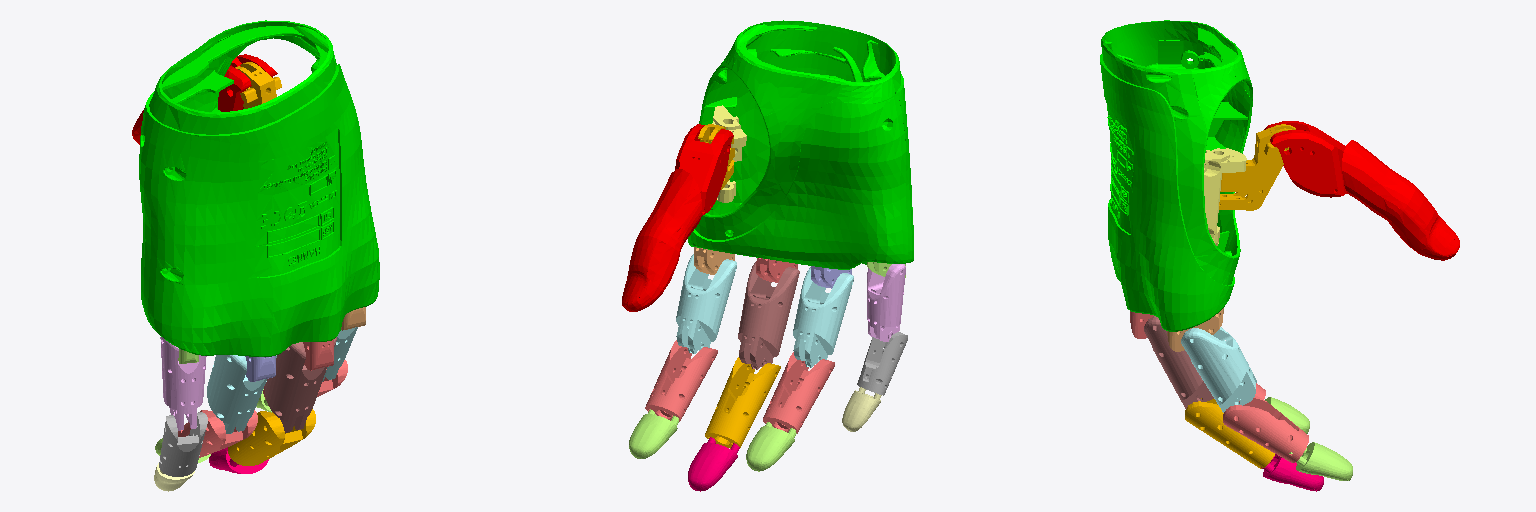
--- Facts derived from the render (not from the file) ---
The picture shows the robot from 3 angles, left to right: view 1: azimuth 30°, elevation 25°; view 2: azimuth 150°, elevation 25°; view 3: azimuth 270°, elevation 25°; orthographic projection.
Robot: COVER — 25 links, 24 joints (9 revolute, 15 fixed); root link footprint; default pose: joints at zero except 3 at the middle of their limits (index_mount_proximal_joint = 0.4228, middle_mount_proximal_joint = 0.3728, ring_mount_proximal_joint = 0.4228).
Links seen in each view (by area): view 1: 1_A, middle_proximal_link, ring_proximal_link, lil_proximal_link, middle_medial_link, lil_medial_link, CUTOUT, ring_medial_link, PAF1002500, middle_mount_2_link, index_proximal_link, middle_distal_link (+1 smaller); view 2: 1_A, CUTOUT, middle_proximal_link, index_proximal_link, ring_proximal_link, middle_medial_link, index_medial_link, ring_medial_link, lil_proximal_link, lil_medial_link, middle_distal_link, ring_distal_link (+7 smaller); view 3: 1_A, CUTOUT, index_proximal_link, index_medial_link, PAF1002500, middle_proximal_link, middle_medial_link, PAF1002300, index_distal_link, middle_distal_link, index_mount_2_link, ring_distal_link.
Link boxes in pixels (bbox=[...]): 1_A: bbox=[139, 20, 379, 356]; middle_proximal_link: bbox=[265, 337, 336, 432]; ring_proximal_link: bbox=[207, 355, 276, 433]; lil_proximal_link: bbox=[160, 337, 206, 430]; middle_medial_link: bbox=[228, 409, 315, 465]; lil_medial_link: bbox=[159, 412, 207, 476]; CUTOUT: bbox=[132, 54, 277, 144]; ring_medial_link: bbox=[178, 410, 257, 457]; PAF1002500: bbox=[235, 62, 281, 108]; middle_mount_2_link: bbox=[303, 339, 333, 370]; index_proximal_link: bbox=[322, 327, 357, 381]; middle_distal_link: bbox=[209, 447, 268, 473]; 1_A: bbox=[688, 20, 913, 269]; CUTOUT: bbox=[622, 124, 733, 311]; middle_proximal_link: bbox=[738, 262, 799, 369]; index_proximal_link: bbox=[676, 254, 736, 353]; ring_proximal_link: bbox=[793, 267, 853, 367]; middle_medial_link: bbox=[705, 357, 780, 448]; index_medial_link: bbox=[645, 340, 717, 421]; ring_medial_link: bbox=[763, 352, 834, 433]; lil_proximal_link: bbox=[867, 264, 905, 341]; lil_medial_link: bbox=[857, 332, 907, 395]; middle_distal_link: bbox=[688, 437, 739, 491]; ring_distal_link: bbox=[746, 422, 796, 471]; 1_A: bbox=[1100, 20, 1252, 331]; CUTOUT: bbox=[1264, 121, 1459, 260]; index_proximal_link: bbox=[1181, 327, 1256, 412]; index_medial_link: bbox=[1223, 395, 1308, 462]; PAF1002500: bbox=[1219, 124, 1295, 210]; middle_proximal_link: bbox=[1144, 316, 1213, 408]; middle_medial_link: bbox=[1185, 398, 1274, 468]; PAF1002300: bbox=[1204, 148, 1246, 245]; index_distal_link: bbox=[1289, 442, 1352, 480]; middle_distal_link: bbox=[1261, 454, 1323, 491]; index_mount_2_link: bbox=[1167, 308, 1223, 351]; ring_distal_link: bbox=[1265, 397, 1309, 433].
Size in the robot's own frame: 85.76 by 127 by 166 metres.
Meshes: 21 distinct files referenced, 24 mesh visuals loaded (21 binary STL).

robot.urdf — COVER:
<robot name="COVER">

  <link name="footprint" />

  <joint name="base_joint" type="fixed">
    <parent link="footprint"/>
    <child link="1_A"/>
  </joint>

  <link name="1_A">
    <inertial>
      <origin xyz="-0.00851236 -0.000890128 0.00760393" rpy="0 0 0"/>
      <mass value="33073300.0"/>
      <inertia ixx="27909.2" ixy="-734.642" ixz="2667.27" iyy="41786.8" iyz="-818.311" izz="27561.8"/>
    </inertial>
    <visual>
      <origin xyz="0 0 0" rpy="0 0 0"/>
      <geometry>
        <mesh filename="package://advr_mob_plt_description/urdf/meshes/1_a_asm-binary.stl"/>
      </geometry>
      <material name="green">
        <color rgba="0 1 0 1"/>
      </material>
    </visual>
    <collision>
      <origin xyz="0 0 0" rpy="0 0 0"/>
      <geometry>
        <mesh filename="package://advr_mob_plt_description/urdf/meshes/1_a_asm-binary.stl"/>
      </geometry>
    </collision>
  </link>

<!--INDEX Finger-->
  <joint name="palm_index_mount_joint" type="fixed">
    <origin xyz="29 10 -28" rpy="1.57 1.57 -0.001"/>
    <parent link="1_A"/>
    <child link="index_mount_1_link"/>
    <dynamics damping="0.1"/>
  </joint>

  <link name="index_mount_1_link">
    <inertial>
      <origin xyz="-0.0013145 8.67863770326e-06 0.00149996711302" rpy="0 0 0"/>
      <mass value="0.0532202"/>
      <inertia ixx="5.01885e-07" ixy="-2.49665e-09" ixz="0.0" iyy="6.217e-07" iyz="-5.68401e-11" izz="1.04769e-06"/>
    </inertial>
    <visual>
      <origin xyz="0 0 0" rpy="0 0 0"/>
      <geometry>
        <mesh filename="package://advr_mob_plt_description/urdf/meshes/paf1003400_prt-binary.stl"/>
      </geometry>
      <material name="PAF1003400_color">
        <color rgba="0.25 0.5 0.0 1.0"/>
      </material>
    </visual>
    <collision>
      <origin xyz="0 0 0" rpy="0 0 0"/>
      <geometry>
        <mesh filename="package://advr_mob_plt_description/urdf/meshes/paf1003400_prt-binary.stl"/>
      </geometry>
    </collision>
  </link>

  <joint name="index_mount_joint" type="fixed">
    <origin xyz="0 0 -9" rpy="1.58824971908 0 0"/>
    <axis xyz="0.0 -1.00000044025 -1.13856436057e-07"/>
    <parent link="index_mount_1_link"/>
    <child link="index_mount_2_link"/>
    <dynamics damping="0.1"/>
  </joint>

  <link name="index_mount_2_link">
    <inertial>
      <origin xyz="0.0038461 0.00438742504662 1.07098420216e-05" rpy="0 0 0"/>
      <mass value="0.103446"/>
      <inertia ixx="3.58836e-06" ixy="-5.21846e-07" ixz="4.01023e-09" iyy="2.78015e-06" iyz="2.538e-09" izz="4.97765e-06"/>
    </inertial>
    <visual>
      <origin xyz="-0.0035 -0.00698064435777 0" rpy="0 0 0"/>
      <geometry>
        <mesh filename="package://advr_mob_plt_description/urdf/meshes/paf1003801_prt-binary.stl"/>
      </geometry>
      <material name="PAF1003801_color">
        <color rgba="1.0 0.75 0.5 1.0"/>
      </material>
    </visual>
    <collision>
      <origin xyz="-0.0035 -0.00698064435777 0" rpy="0 0 0"/>
      <geometry>
        <mesh filename="package://advr_mob_plt_description/urdf/meshes/paf1003801_prt-binary.stl"/>
      </geometry>
    </collision>
  </link>

  <joint name="index_mount_proximal_joint" type="revolute">
    <origin xyz="10.5 10.5 0" rpy="1.61820653951 1.57079602112 1.56584662577"/>
    <axis xyz="1.00000044025 -1.91634382918e-07 8.52805280907e-09"/>
    <parent link="index_mount_2_link"/>
    <child link="index_proximal_link"/>
    <limit effort="300" lower="0.14" upper="0.705631162427" velocity="1"/>
    <dynamics damping="0.1"/>
  </joint>

  <link name="index_proximal_link">
    <inertial>
      <origin xyz="0 -0.00245137136553 0.015615295202" rpy="0 0 0"/>
      <mass value="0.0118295"/>
      <inertia ixx="9.70967e-07" ixy="0.0" ixz="0.0" iyy="1.04991e-06" iyz="2.74792e-08" izz="4.78951e-07"/>
    </inertial>
    <visual>
      <origin xyz="0 -2.5 -2.5" rpy="0 0 0"/>
      <geometry>
        <mesh filename="package://advr_mob_plt_description/urdf/meshes/paf1004201_prt-binary.stl"/>
      </geometry>
      <material name="PAF1004201_color">
        <color rgba="0.75 1.0 1.0 1.0"/>
      </material>
    </visual>
    <collision>
      <origin xyz="0 0 0" rpy="0 0 0"/>
      <geometry>
        <mesh filename="package://advr_mob_plt_description/urdf/meshes/paf1004201_prt-binary.stl"/>
      </geometry>
    </collision>
  </link>

  <joint name="index_proximal_medial_joint" type="revolute">
    <origin xyz="0 1 33.5" rpy="-2.68780710036 2.39771271023e-07 0"/>
    <axis xyz="-1.00000044025 -6.51257134887e-08 3.08022348461e-07"/>
    <parent link="index_proximal_link"/>
    <child link="index_medial_link"/>
    <limit effort="300" lower="-1.15" upper="0.02" velocity="1"/>
    <dynamics damping="0.1"/>
  </joint>

  <link name="index_medial_link">
    <inertial>
      <origin xyz="0 0.000378038466131 -0.0131533470868" rpy="0 0 0"/>
      <mass value="0.190202"/>
      <inertia ixx="1.5478e-05" ixy="0.0" ixz="0.0" iyy="1.78731e-05" iyz="8.8021e-07" izz="6.19301e-06"/>
    </inertial>
    <visual>
      <origin xyz="0 1 3" rpy="0 0 0"/>
      <geometry>
        <mesh filename="package://advr_mob_plt_description/urdf/meshes/paf1004500_prt-binary.stl"/>
      </geometry>
      <material name="PAF1004500_color">
        <color rgba="1.0 0.5 0.5 1.0"/>
      </material>
    </visual>
    <collision>
      <origin xyz="0 0.000999972692264 0.00385996745234" rpy="0 0 0"/>
      <geometry>
        <mesh filename="package://advr_mob_plt_description/urdf/meshes/paf1004500_prt-binary.stl"/>
      </geometry>
    </collision>
  </link>

  <joint name="index_medial_distal_joint" type="fixed">
    <origin xyz="0 -1.5 -35"  rpy="0 3.14159 3.14159"/>
    <parent link="index_medial_link"/>
    <child link="index_distal_link"/>
    <dynamics damping="0.1"/>
  </joint>

  <link name="index_distal_link">
    <inertial>
      <origin xyz="-0.0099602563359 0.201702352802 0.0578870067878" rpy="0 0 0"/>
      <mass value="0.00137117"/>
      <inertia ixx="4.86452e-08" ixy="-6.1421e-10" ixz="1.24462e-10" iyy="5.9837e-08" iyz="9.17469e-09" izz="3.23765e-08"/>
    </inertial>
    <visual>
      <origin xyz="10 -205 -55.5" rpy="0 0 0"/>
      <geometry>
        <mesh filename="package://advr_mob_plt_description/urdf/meshes/paf1004800_prt-binary.stl"/>
      </geometry>
      <material name="PAF1004800_color">
        <color rgba="0.75 1.0 0.5 1.0"/>
      </material>
    </visual>
    <collision>
      <origin xyz="0 0 0" rpy="0 0 0"/>
      <geometry>
        <mesh filename="package://advr_mob_plt_description/urdf/meshes/paf1004800_prt-binary.stl"/>
      </geometry>
    </collision>
  </link>

<!-- Middle Finger -->

  <joint name="palm_middle_mount_joint" type="fixed">
    <origin xyz="10 -3 -32" rpy="1.57 1.57 0"/>    
    <axis xyz="1.0 0.0 1.11022302463e-16"/>
    <parent link="1_A"/>
    <child link="middle_mount_1_link"/>
    <dynamics damping="0.1"/>
  </joint>

  <link name="middle_mount_1_link">
    <inertial>
      <origin xyz="0.0565801 -0.00585679742923 0.0144999582113" rpy="0 0 0"/>
      <mass value="0.0178762"/>
      <inertia ixx="1.68676e-07" ixy="-8.48721e-10" ixz="0.0" iyy="2.08482e-07" iyz="-1.75547e-10" izz="3.51666e-07"/>
    </inertial>
    <visual>
      <origin xyz="0 0 0" rpy="0 0 0"/>
      <geometry>
        <mesh filename="package://advr_mob_plt_description/urdf/meshes/paf1003500_prt-binary.stl"/>
      </geometry>
      <material name="PAF1003500_color">
        <color rgba="1.0 0.75 0.5 1.0"/>
      </material>
    </visual>
    <collision>
      <origin xyz="0.0579 -0.0058655590092 0.0129999547585" rpy="0 0 0"/>
      <geometry>
        <mesh filename="package://advr_mob_plt_description/urdf/meshes/paf1003500_prt-binary.stl"/>
      </geometry>
    </collision>
  </link>

  <joint name="middle_mount_joint" type="fixed">
    <origin xyz="0 0 -9" rpy="1.58824971908 0 0"/>
    <parent link="middle_mount_1_link"/>
    <child link="middle_mount_2_link"/>
    <dynamics damping="0.1"/>
  </joint>

  <link name="middle_mount_2_link">
    <inertial>
      <origin xyz="0.0073481 0.0113598209544 8.01978724352e-06" rpy="0 0 0"/>
      <mass value="0.100064"/>
      <inertia ixx="3.47461e-06" ixy="-5.08058e-07" ixz="2.92797e-09" iyy="2.68917e-06" iyz="6.72829e-09" izz="4.81884e-06"/>
    </inertial>
    <visual>
      <origin xyz="-0.0035 -0.00698064435777 0" rpy="0 0 0"/>
      <geometry>
        <mesh filename="package://advr_mob_plt_description/urdf/meshes/paf1003901_prt-binary.stl"/>
      </geometry>
      <material name="PAF1003901_color">
        <color rgba="1.0 0.5 0.5 1.0"/>
      </material>
    </visual>
    <collision>
      <origin xyz="0 0 0" rpy="0 0 0"/>
      <geometry>
        <mesh filename="package://advr_mob_plt_description/urdf/meshes/paf1003901_prt-binary.stl"/>
      </geometry>
    </collision>
  </link>
  
  <joint name="middle_mount_proximal_joint" type="revolute">
    <origin xyz="10.5 10.5 0" rpy="1.61820653951 1.57079602112 1.56584662577"/>
    <axis xyz="0.999999619912 -8.81751169857e-08 2.40175518709e-08"/>
    <parent link="middle_mount_2_link"/>
    <child link="middle_proximal_link"/>
    <limit effort="300" lower="0.04" upper="0.705631162427" velocity="1"/>
    <dynamics damping="0.1"/>
  </joint>

  <link name="middle_proximal_link">
    <inertial>
      <origin xyz="0 -0.00252752490586 0.0170952088421" rpy="0 0 0"/>
      <mass value="0.332988"/>
      <inertia ixx="3.11824e-05" ixy="0.0" ixz="0.0" iyy="3.3177e-05" iyz="7.74984e-07" izz="1.34653e-05"/>
    </inertial>
    <visual>
      <origin xyz="0 -2.5 -2.5" rpy="0 0 0"/>
      <geometry>
        <mesh filename="package://advr_mob_plt_description/urdf/meshes/paf1004301_prt-binary.stl"/>
      </geometry>
      <material name="PAF1004301_color">
        <color rgba="0.75 0.5 0.5 1.0"/>
      </material>
    </visual>
    <collision>
      <origin xyz="0 -0.00299999735365 -0.00274996097933" rpy="0 0 0"/>
      <geometry>
        <mesh filename="package://advr_mob_plt_description/urdf/meshes/paf1004301_prt-binary.stl"/>
      </geometry>
    </collision>
  </link>

  <joint name="middle_proximal_medial_joint" type="revolute">
    <origin xyz="0 1 36.5" rpy="-2.68780710036 2.39771271023e-07 0"/>
    <axis xyz="-0.999999619912 1.24171011417e-07 2.37297750894e-07"/>
    <parent link="middle_proximal_link"/>
    <child link="middle_medial_link"/>
    <limit effort="300" lower="0.08" upper="-1.18" velocity="1"/>
    <dynamics damping="0.1"/>
  </joint>

  <link name="middle_medial_link">
    <inertial>
      <origin xyz="0 0.000411225942409 -0.0151843696958" rpy="0 0 0"/>
      <mass value="0.221705"/>
      <inertia ixx="2.18438e-05" ixy="0.0" ixz="0.0" iyy="2.42753e-05" iyz="1.21878e-06" izz="7.13719e-06"/>
    </inertial>
    <visual>
      <origin xyz="0 1 3" rpy="0 0 0"/>
      <geometry>
        <mesh filename="package://advr_mob_plt_description/urdf/meshes/paf1004600_prt-binary.stl"/>
      </geometry>
      <material name="PAF1004600_color">
        <color rgba="1.0 0.75 0.0 1.0"/>
      </material>
    </visual>
    <collision>
      <origin xyz="0 0.00100000491117 0.00386000785583" rpy="0 0 0"/>
      <geometry>
        <mesh filename="package://advr_mob_plt_description/urdf/meshes/paf1004600_prt-binary.stl"/>
      </geometry>
    </collision>
  </link>

  <joint name="middle_medial_distal_joint" type="fixed">
    <origin xyz="0 -1.5 -35"  rpy="0 3.14159 3.14159"/>
    <parent link="middle_medial_link"/>
    <child link="middle_distal_link"/>
    <dynamics damping="0.1"/>
  </joint>

  <link name="middle_distal_link">
    <inertial>
      <origin xyz="-0.00995657784312 0.202022793011 0.0571031415645" rpy="0 0 0"/>
      <mass value="0.00168109"/>
      <inertia ixx="7.54518e-08" ixy="-7.0908e-10" ixz="1.37313e-10" iyy="8.70907e-08" iyz="1.55857e-08" izz="4.02854e-08"/>
    </inertial>
    <visual>
      <origin xyz="10 -205 -50" rpy="0 0 0"/>
      <geometry>
        <mesh filename="package://advr_mob_plt_description/urdf/meshes/paf1004900_prt-binary.stl"/>
      </geometry>
      <material name="PAF1004900_color">
        <color rgba="1.0 0.0 0.47 1.0"/>
      </material>
    </visual>
    <collision>
      <origin xyz="0 0 0" rpy="0 0 0"/>
      <geometry>
        <mesh filename="package://advr_mob_plt_description/urdf/meshes/paf1004900_prt-binary.stl"/>
      </geometry>
    </collision>
  </link>

<!-- Ring Finger -->

  <joint name="palm_ring_mount_joint" type="fixed">
    <origin xyz="-12 -5 -30" rpy="1.57 1.57 0"/>
    <parent link="1_A"/>
    <child link="ring_mount_1_link"/>
    <dynamics damping="0.1"/>
  </joint>

  <link name="ring_mount_1_link">
    <inertial>
      <origin xyz="-0.00116205216058 3.05791691174e-06 0.00150000896652" rpy="0 0 0"/>
      <mass value="0.0185208"/>
      <inertia ixx="1.7357e-07" ixy="-3.02838e-10" ixz="0.0" iyy="2.2409e-07" iyz="2.813e-10" izz="3.71201e-07"/>
    </inertial>
    <visual>
      <origin xyz="0 0 0" rpy="0 0 0"/>
      <geometry>
        <mesh filename="package://advr_mob_plt_description/urdf/meshes/paf1003600_prt-binary.stl"/>
      </geometry>
      <material name="PAF1003600_color">
        <color rgba="1.0 1.0 0.5 1.0"/>
      </material>
    </visual>
    <collision>
      <origin xyz="0 0 0" rpy="0 0 0"/>
      <geometry>
        <mesh filename="package://advr_mob_plt_description/urdf/meshes/paf1003600_prt-binary.stl"/>
      </geometry>
    </collision>
  </link>

  <joint name="ring_mount_joint" type="fixed">
    <origin xyz="0 0 -9" rpy="1.58824971908 0 0"/>
    <parent link="ring_mount_1_link"/>
    <child link="ring_mount_2_link"/>
    <dynamics damping="0.1"/>
  </joint>

  <link name="ring_mount_2_link">
    <inertial>
      <origin xyz="0.00736466477151 0.0113537508232 1.12030963288e-05" rpy="0 0 0"/>
      <mass value="0.0996106"/>
      <inertia ixx="3.472e-06" ixy="-5.10258e-07" ixz="4.10239e-09" iyy="2.67736e-06" iyz="-7.64805e-09" izz="4.81157e-06"/>
    </inertial>
    <visual>
      <origin xyz="0 0 0" rpy="0 0 0"/>
      <geometry>
        <mesh filename="package://advr_mob_plt_description/urdf/meshes/paf1004001_prt-binary.stl"/>
      </geometry>
      <material name="PAF1004001_color">
        <color rgba="0.75 0.75 1.0 1.0"/>
      </material>
    </visual>
    <collision>
      <origin xyz="0 0 0" rpy="0 0 0"/>
      <geometry>
        <mesh filename="package://advr_mob_plt_description/urdf/meshes/paf1004001_prt-binary.stl"/>
      </geometry>
    </collision>
  </link>

  <joint name="ring_mount_proximal_joint" type="revolute">
    <origin xyz="10.5 10.5 0" rpy="1.61820653951 1.57079602112 1.56584662577"/>
    <axis xyz="1.00000024783 2.36992810717e-07 -1.72229714934e-08"/>
    <parent link="ring_mount_2_link"/>
    <child link="ring_proximal_link"/>
    <limit effort="300" lower="0.14" upper="0.705631162427" velocity="1"/>
    <dynamics damping="0.1"/>
  </joint>

  <link name="ring_proximal_link">
    <inertial>
      <origin xyz="0 -0.00245135170565 0.0156153095918" rpy="0 0 0"/>
      <mass value="0.0118295"/>
      <inertia ixx="9.70967e-07" ixy="0.0" ixz="0.0" iyy="1.04991e-06" iyz="2.74792e-08" izz="4.78951e-07"/>
    </inertial>
    <visual>
      <origin xyz="0 -2.5 -2.5" rpy="0 0 0"/>
      <geometry>
        <mesh filename="package://advr_mob_plt_description/urdf/meshes/paf1004201_prt-binary.stl"/>
      </geometry>
      <material name="PAF10042010_color">
        <color rgba="0.75 1.0 1.0 1.0"/>
      </material>
    </visual>
    <collision>
      <origin xyz="0 -0.00299999694327 -0.00275003349694" rpy="0 0 0"/>
      <geometry>
        <mesh filename="package://advr_mob_plt_description/urdf/meshes/paf1004201_prt-binary.stl"/>
      </geometry>
    </collision>
  </link>

  <joint name="ring_proximal_medial_joint" type="revolute">
    <origin xyz="0 1 33" rpy="-2.68780710036 2.39771271023e-07 0"/>
    <axis xyz="-1.00000024783 -1.20997757813e-07 9.61299631563e-08"/>
    <parent link="ring_proximal_link"/>
    <child link="ring_medial_link"/>
    <limit effort="300" lower="-0.61" upper="0.13" velocity="1"/>
    <dynamics damping="0.1"/>
  </joint>

  <link name="ring_medial_link">
    <inertial>
      <origin xyz="0 0.000378035977283 -0.013153310539" rpy="0 0 0"/>
      <mass value="0.190202"/>
      <inertia ixx="1.5478e-05" ixy="0.0" ixz="0.0" iyy="1.78731e-05" iyz="8.8021e-07" izz="6.19301e-06"/>
    </inertial>
    <visual>
      <origin xyz="0 1 3" rpy="0 0 0"/>
      <geometry>
        <mesh filename="package://advr_mob_plt_description/urdf/meshes/paf1004500_prt-binary.stl"/>
      </geometry>
      <material name="PAF10045000_color">
        <color rgba="1.0 0.5 0.5 1.0"/>
      </material>
    </visual>
    <collision>
      <origin xyz="0 0.00100000320798 0.00385999267293" rpy="0 0 0"/>
      <geometry>
        <mesh filename="package://advr_mob_plt_description/urdf/meshes/paf1004500_prt-binary.stl"/>
      </geometry>
    </collision>
  </link>

 <joint name="ring_medial_distal_joint" type="fixed">
    <origin xyz="0 -1.5 -35"  rpy="0 3.14159 3.14159"/>
    <parent link="ring_medial_link"/>
    <child link="ring_distal_link"/>
    <dynamics damping="0.1"/>
  </joint>

  <link name="ring_distal_link">
    <inertial>
      <origin xyz="-0.00996054373334 0.201702796943 0.0578861506305" rpy="0 0 0"/>
      <mass value="0.00137117"/>
      <inertia ixx="4.86452e-08" ixy="-6.1421e-10" ixz="1.24462e-10" iyy="5.9837e-08" iyz="9.17469e-09" izz="3.23765e-08"/>
    </inertial>
    <visual>
      <origin xyz="10 -205 -55.5" rpy="0 0 0"/>
      <geometry>
        <mesh filename="package://advr_mob_plt_description/urdf/meshes/paf1004800_prt-binary.stl"/>
      </geometry>
      <material name="PAF10048000_color">
        <color rgba="0.75 1.0 0.5 1.0"/>
      </material>
    </visual>
    <collision>
      <origin xyz="0 0 0" rpy="0 0 0"/>
      <geometry>
        <mesh filename="package://advr_mob_plt_description/urdf/meshes/paf1004800_prt-binary.stl"/>
      </geometry>
    </collision>
  </link>

<!-- Little Finger -->

  <joint name="palm_lil_mount_joint" type="fixed">
    <origin xyz="-36 -6 -20" rpy="1.57 1.57 -0.261799"/>
    <axis xyz="8.10671871038e-09 -0.999999773716 -2.05797691055e-08"/>
    <parent link="1_A"/>
    <child link="lil_mount_1_link"/>
    <dynamics damping="0.1"/>
  </joint>

  <link name="lil_mount_1_link">
    <inertial>
      <origin xyz="-0.00155187581715 2.24507211835e-06 0.00110000076463" rpy="0 0 0"/>
      <mass value="0.012343"/>
      <inertia ixx="1.12951e-07" ixy="-1.54627e-10" ixz="0.0" iyy="1.32077e-07" iyz="1.73155e-11" izz="2.35416e-07"/>
    </inertial>
    <visual>
      <origin xyz="0 0 0" rpy="0 0 0"/>
      <geometry>
        <mesh filename="package://advr_mob_plt_description/urdf/meshes/paf1003700_prt-binary.stl"/>
      </geometry>
      <material name="black">
        <color rgba="1 1 0 1"/>
      </material>
    </visual>
    <collision>
      <origin xyz="0 0 0" rpy="0 0 0"/>
      <geometry>
        <mesh filename="package://advr_mob_plt_description/urdf/meshes/paf1003700_prt-binary.stl"/>
      </geometry>
    </collision>
  </link>

  <joint name="lil_mount_joint" type="fixed">
    <origin xyz="0 0 -9" rpy="1.58824971908 0 0"/>
    <axis xyz="8.10671871038e-09 -0.999999773716 -2.05797691055e-08"/>
    <parent link="lil_mount_1_link"/>
    <child link="lil_mount_2_link"/>
    <dynamics damping="0.1"/>
  </joint>

  <link name="lil_mount_2_link">
    <inertial>
      <origin xyz="0.00337449004586 0.00346063716788 5.24457528966e-06" rpy="0 0 0"/>
      <mass value="0.0285302"/>
      <inertia ixx="6.75022e-07" ixy="-9.95271e-08" ixz="4.75049e-10" iyy="6.18247e-07" iyz="-2.22533e-10" izz="1.06625e-06"/>
    </inertial>
    <visual>
      <origin xyz="0 0 0" rpy="0 0 0"/>
      <geometry>
        <mesh filename="package://advr_mob_plt_description/urdf/meshes/paf1004101_prt-binary.stl"/>
      </geometry>
      <material name="PAF1004101_color">
        <color rgba="0.75 1.0 0.5 1.0"/>
      </material>
    </visual>
    <collision>
      <origin xyz="-0.00349994987012 -0.00602711473712 0" rpy="0 0 0"/>
      <geometry>
        <mesh filename="package://advr_mob_plt_description/urdf/meshes/paf1004101_prt-binary.stl"/>
      </geometry>
    </collision>
  </link>

  <joint name="lil_mount_proximal_joint" type="revolute">
    <origin xyz="10.5 10.5 0" rpy="1.61820653951 1.57079602112 1.56584662577"/>
    <axis xyz="0.999999678896 1.99802328055e-08 2.77878688046e-08"/>
    <parent link="lil_mount_2_link"/>
    <child link="lil_proximal_link"/>
    <limit effort="300" lower="-0.27" upper="0.705631162427" velocity="1"/>
    <dynamics damping="0.1"/>
  </joint>

  <link name="lil_proximal_link">
    <inertial>
      <origin xyz="0 -0.000635181088434 0.0128666591798" rpy="0 0 0"/>
      <mass value="0.0032677"/>
      <inertia ixx="2.13703e-07" ixy="0.0" ixz="0.0" iyy="2.30372e-07" iyz="4.37112e-09" izz="8.40469e-08"/>
    </inertial>
    <visual>
      <origin xyz="0 -2.5 -2.5" rpy="0 0 0"/>
      <geometry>
        <mesh filename="package://advr_mob_plt_description/urdf/meshes/paf1004401_prt-binary.stl"/>
      </geometry>
      <material name="PAF1004401_color">
        <color rgba="1.0 0.75 1.0 1.0"/>
      </material>
    </visual>
    <collision>
      <origin xyz="0 -0.00100001306321 -0.00275005057186" rpy="0 0 0"/>
      <geometry>
        <mesh filename="package://advr_mob_plt_description/urdf/meshes/paf1004401_prt-binary.stl"/>
      </geometry>
    </collision>
  </link>

  <joint name="lil_proximal_medial_joint" type="revolute">
    <origin xyz="0 1 29.5" rpy="-2.68780710036 2.39771271023e-07 0"/>
    <axis xyz="-0.999999678896 -1.31398492954e-08 3.17077668288e-09"/>
    <parent link="lil_proximal_link"/>
    <child link="lil_medial_link"/>
    <limit effort="300" lower="-0.60" upper="0.71" velocity="1"/>
    <dynamics damping="0.1"/>
  </joint>

  <link name="lil_medial_link">
    <inertial>
      <origin xyz="0 -0.000509435776404 -0.00958875825158" rpy="0 0 0"/>
      <mass value="0.0408908"/>
      <inertia ixx="2.14528e-06" ixy="0.0" ixz="0.0" iyy="2.51952e-06" iyz="4.17804e-08" izz="8.9931e-07"/>
    </inertial>
    <visual>
      <origin xyz="0 0 3.5" rpy="0 0 0"/>
      <geometry>
        <mesh filename="package://advr_mob_plt_description/urdf/meshes/paf1004700_prt-binary.stl"/>
      </geometry>
      <material name="PAF1004700_color">
        <color rgba="0.75 0.75 0.75 1.0"/>
      </material>
    </visual>
    <collision>
      <origin xyz="0 0 0.00385999069066" rpy="0 0 0"/>
      <geometry>
        <mesh filename="package://advr_mob_plt_description/urdf/meshes/paf1004700_prt-binary.stl"/>
      </geometry>
    </collision>
  </link>

  <joint name="lil_medial_distal" type="fixed">
    <origin xyz="0 -1.5 -35"  rpy="0 3.14159 3.14159"/>
    <parent link="lil_medial_link"/>
    <child link="lil_distal_link"/>
    <dynamics damping="0.1"/>
  </joint>

  <link name="lil_distal_link">
    <inertial>
      <origin xyz="-0.00821744275544 0.166383805335 0.0478608998359" rpy="0 0 0"/>
      <mass value="0.000756894"/>
      <inertia ixx="1.78823e-08" ixy="-2.37701e-10" ixz="4.71138e-11" iyy="2.20045e-08" iyz="3.42609e-09" izz="1.21599e-08"/>
    </inertial>
    <visual>
      <origin xyz="8 -170 -55" rpy="0 0 0"/>
      <geometry>
        <mesh filename="package://advr_mob_plt_description/urdf/meshes/paf1005000_prt-binary.stl"/>
      </geometry>
      <material name="PAF1005000_color">
        <color rgba="1.0 1.0 0.75 1.0"/>
      </material>
    </visual>
    <collision>
      <origin xyz="0 0 0" rpy="0 0 0"/>
      <geometry>
        <mesh filename="package://advr_mob_plt_description/urdf/meshes/paf1005000_prt-binary.stl"/>
      </geometry>
    </collision>
  </link>

<!-- Thumb -->

  <joint name="1_A--PAF1002300" type="fixed">
    <origin xyz="20 12 5" rpy="-0.123389636399 0.0215437373873 0.976908191421"/>
    <parent link="1_A"/>
    <child link="PAF1002300"/>
    <dynamics damping="0.1"/>
  </joint>

  <link name="PAF1002300">
    <inertial>
      <origin xyz="0.00253507204005 -0.00229951276095 0.00618126851302" rpy="0 0 0"/>
      <mass value="48784.5"/>
      <inertia ixx="5.95798" ixy="-0.401445" ixz="-0.35458" iyy="5.30297" iyz="-0.836671" izz="1.73284"/>
    </inertial>
    <visual>
      <origin xyz="0 0 0" rpy="0 0 0"/>
      <geometry>
        <mesh filename="package://advr_mob_plt_description/urdf/meshes/paf1002300_prt-binary.stl"/>
      </geometry>
      <material name="PAF1002300_color">
        <color rgba="1.0 1.0 0.53 1.0"/>
      </material>
    </visual>
    <collision>
      <origin xyz="0 0 0" rpy="0 0 0"/>
      <geometry>
        <mesh filename="package://advr_mob_plt_description/urdf/meshes/paf1002300_prt-binary.stl"/>
      </geometry>
    </collision>
  </link>

 <joint name="PAF1002300__PAF1002500" type="fixed">
    <origin xyz="3 2.5 0" rpy="0 0 0"/>
    <axis xyz="-1.0000001741 4.77024647005e-07 2.31302308709e-07"/>
    <parent link="PAF1002300"/>
    <child link="PAF1002500"/>
    <dynamics damping="0.1"/>
  </joint>

  <link name="PAF1002500">
    <inertial>
      <origin xyz="0 0 0" rpy="0 0 0"/>
      <mass value="0.0602771"/>
      <inertia ixx="2.98829e-06" ixy="-7.6075e-09" ixz="-2.00989e-06" iyy="6.42168e-06" iyz="6.01804e-09" izz="3.96698e-06"/>
    </inertial>
    <visual>
      <origin xyz="22 22 0" rpy="3.14159 -1.5708 0.785398"/>
      <geometry>
        <mesh filename="package://advr_mob_plt_description/urdf/meshes/paf1002500_prt-binary.stl"/>
      </geometry>
      <material name="PAF1002500_color">
        <color rgba="1.0 0.75 0.0 1.0"/>
      </material>
    </visual>
    <collision>
      <origin xyz="0 0 0" rpy="0 0 0"/>
      <geometry>
        <mesh filename="package://advr_mob_plt_description/urdf/meshes/paf1002500_prt-binary.stl"/>
      </geometry>
    </collision>
  </link>

  <joint name="PAF1002500__CUTOUT" type="revolute">
    <origin xyz="16 16 24" rpy=" 0 0 -0.785398"/>
    <axis xyz="1.00000033972 1.92759832931e-08 -1.39895338369e-08"/>
    <parent link="PAF1002500"/>
    <child link="CUTOUT"/>
    <limit effort="300" lower="-0.72" upper="0.705631162427" velocity="1"/>
    <dynamics damping="0.1"/>
  </joint>

  <link name="CUTOUT">
    <inertial>
      <origin xyz="-0.00427890232251 0.0428929456311 0.0212657717695" rpy="0 0 0"/>
      <mass value="179552000.0"/>
      <inertia ixx="32967.8" ixy="1307.73" ixz="2032.15" iyy="18273.7" iyz="-13519.7" izz="22160.5"/>
    </inertial>
    <visual>
      <origin xyz="0 17 4" rpy="0 3.14159 0"/>
      <geometry>
        <mesh filename="package://advr_mob_plt_description/urdf/meshes/cutout_asm-binary.stl"/>
      </geometry>
      <material name="red">
        <color rgba="1 0 0 1"/>
      </material>
    </visual>
    <collision>
      <origin xyz="0 0.0168000118318 -0.00395002489474" rpy="0 0 0"/>
      <geometry>
        <mesh filename="package://advr_mob_plt_description/urdf/meshes/cutout_asm-binary.stl"/>
      </geometry>
    </collision>
  </link>

  </robot>
